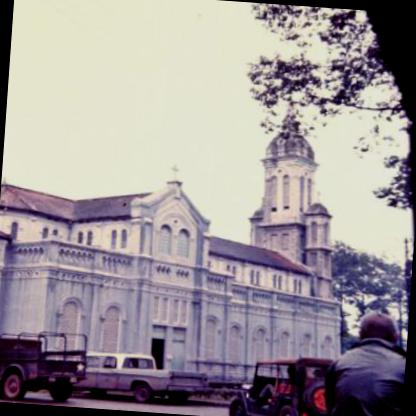truck: (0, 332, 84, 407)
